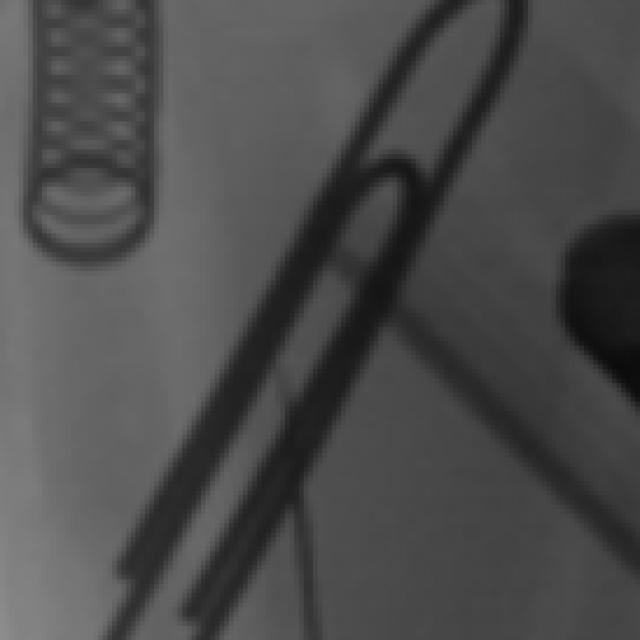GUN: (530, 301, 627, 367)
